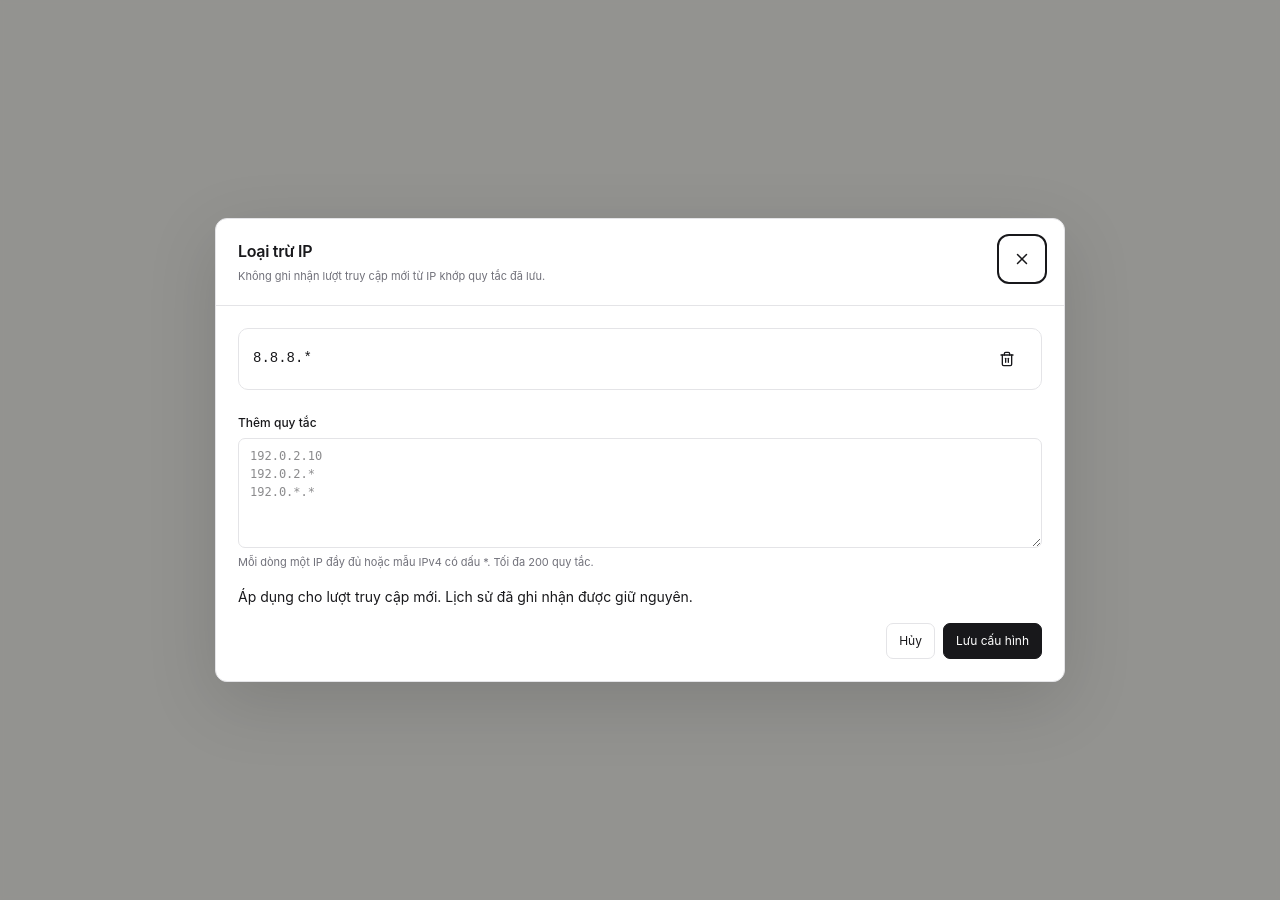
exclusion conflict preserves input and does not close editor
The width and height of the screenshot is (1280, 900).
Type "1.1.*.*" into the text box labelled "Thêm quy tắc" at (640,492), box [238,438,1042,548]
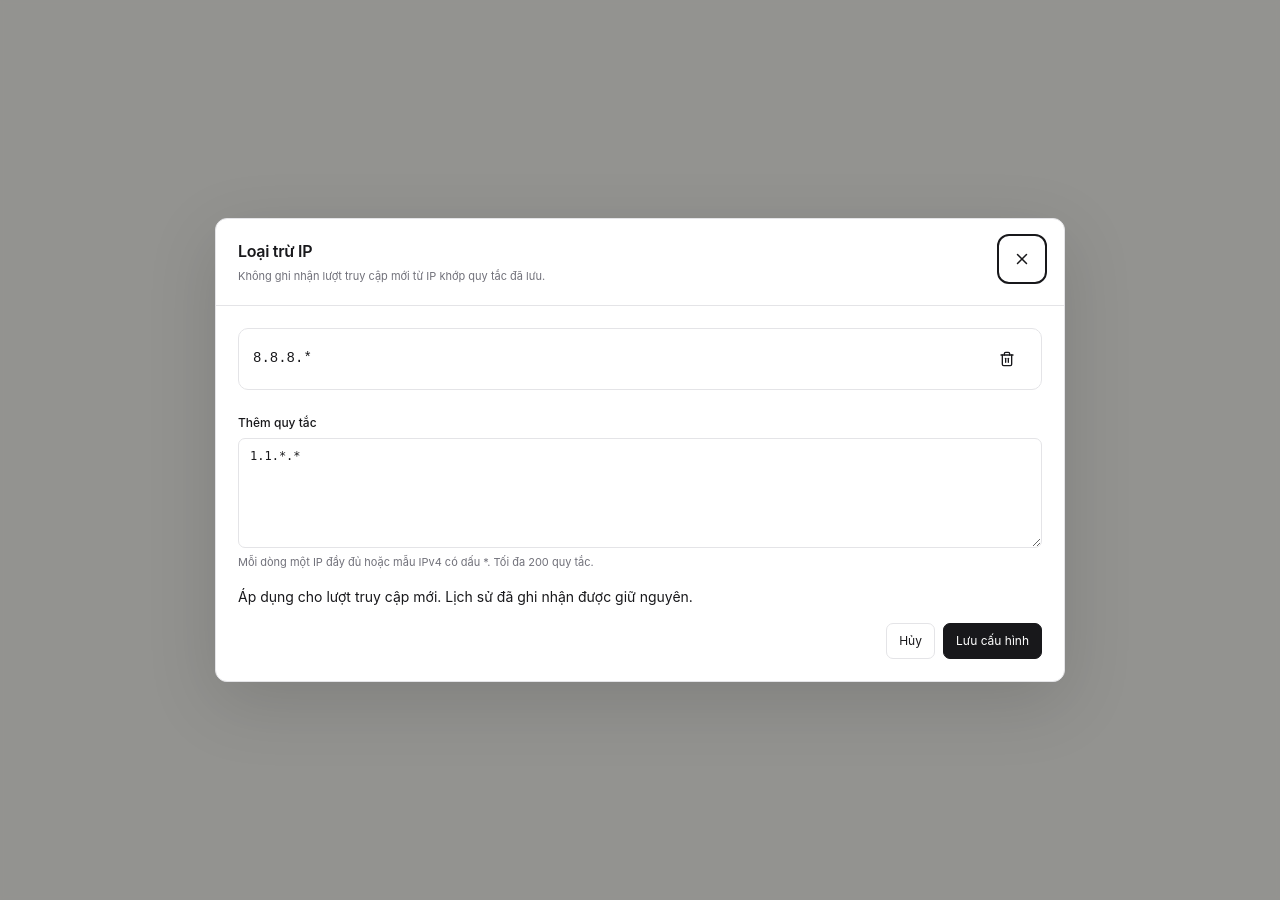
Click the button "Lưu cấu hình" at (992,641), box [943,623,1042,659]
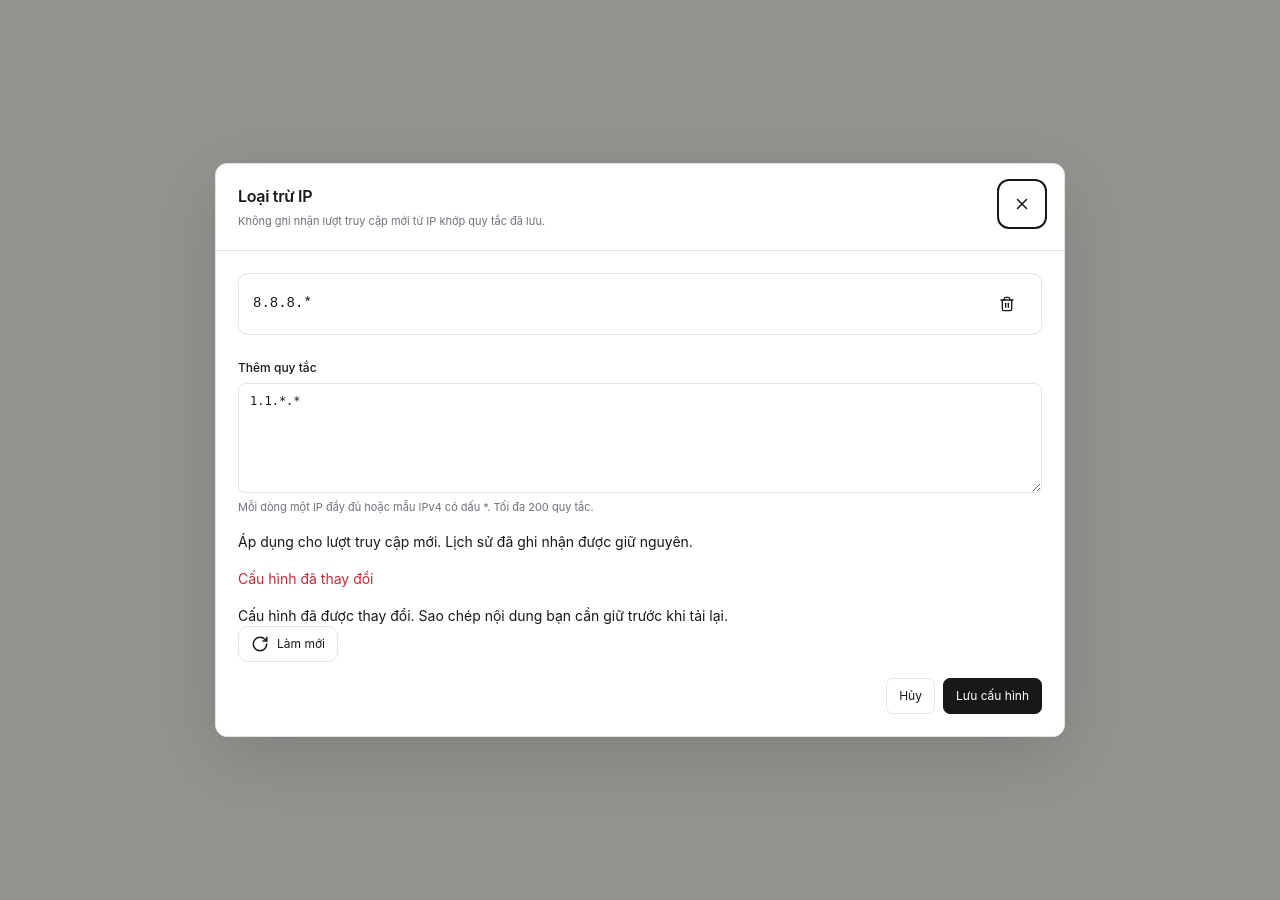
Now the message "Cấu hình đã thay đổi" is shown, box [238,570,374,587]
Now the button "Làm mới" is shown, box [238,626,338,662]
